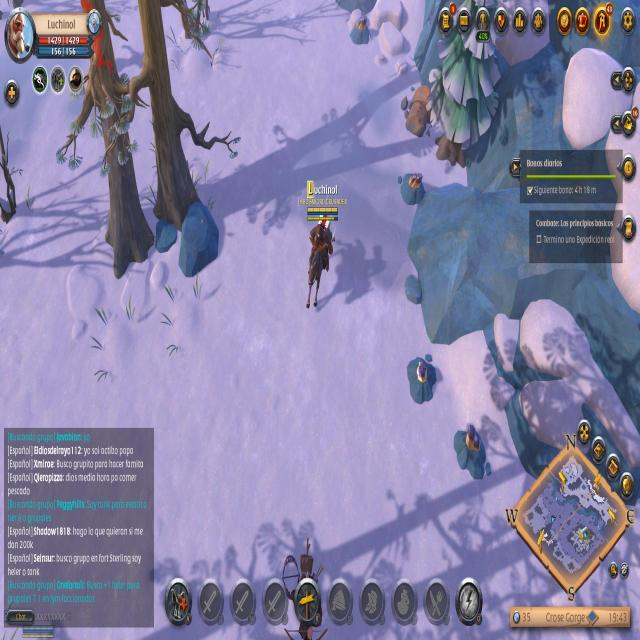piedra_cobre: (454, 424, 488, 479), (407, 354, 435, 404), (400, 172, 424, 206), (349, 14, 368, 45)
